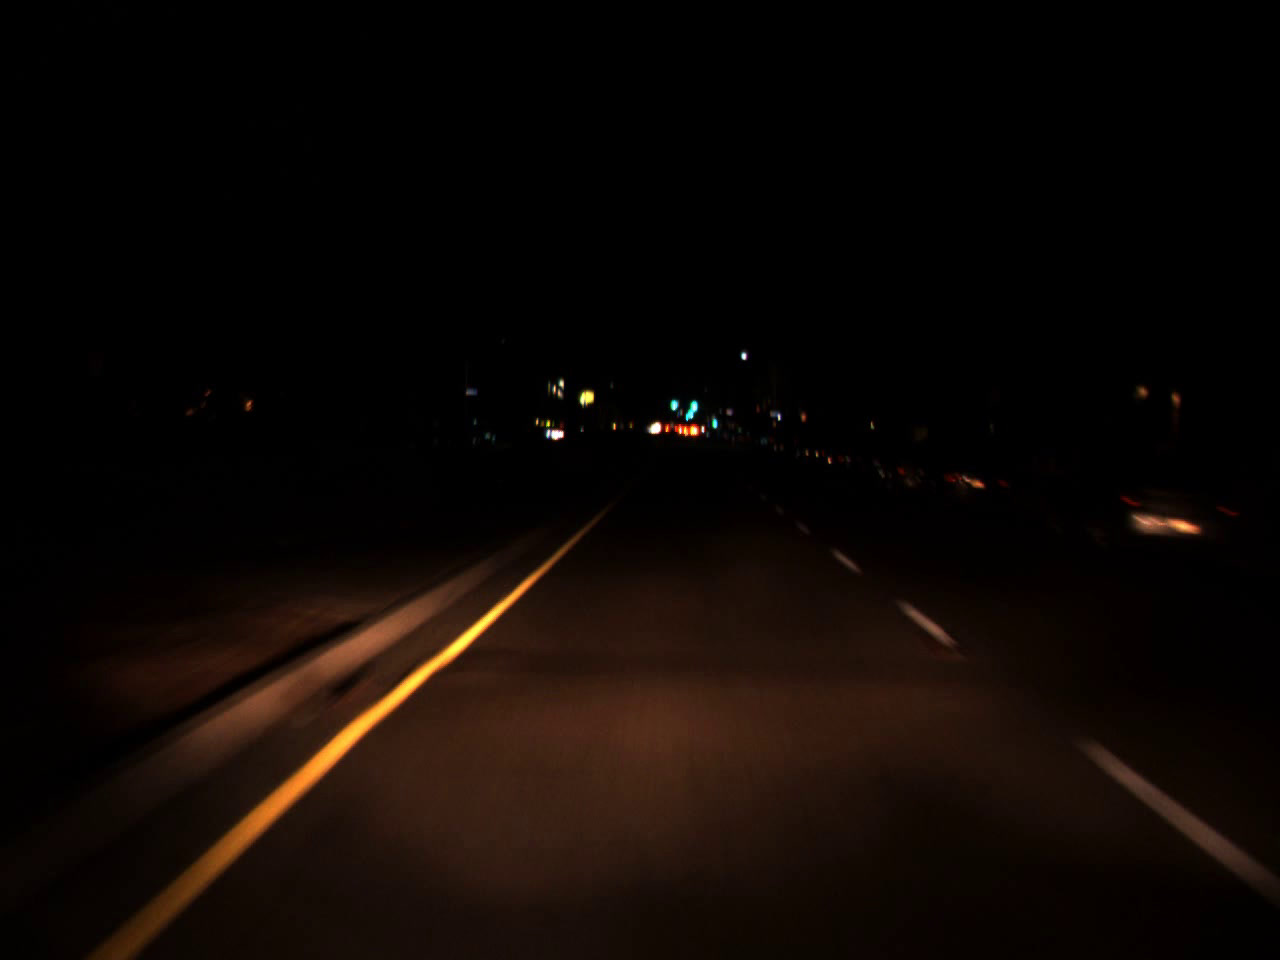go: (680, 400, 694, 424), (708, 403, 718, 433), (687, 390, 699, 414), (669, 388, 678, 412)
